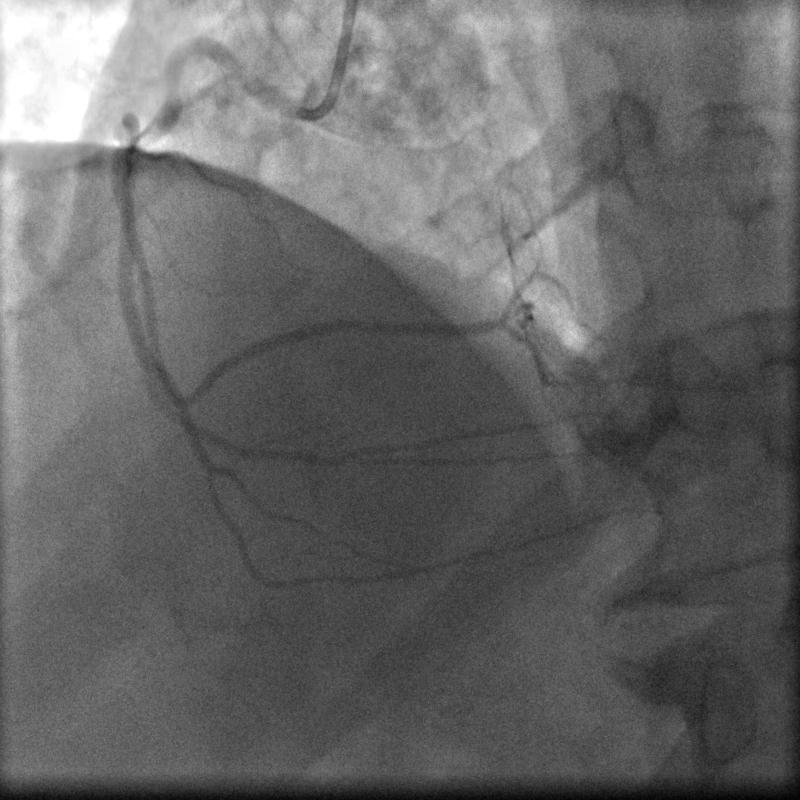Stenosis: (158, 73, 184, 108)
